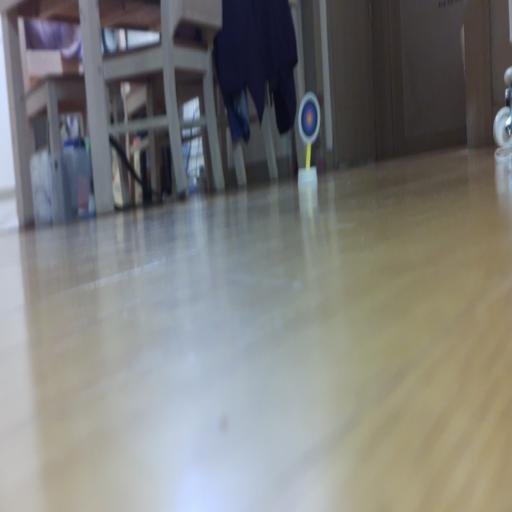target: (298, 92, 320, 145)
